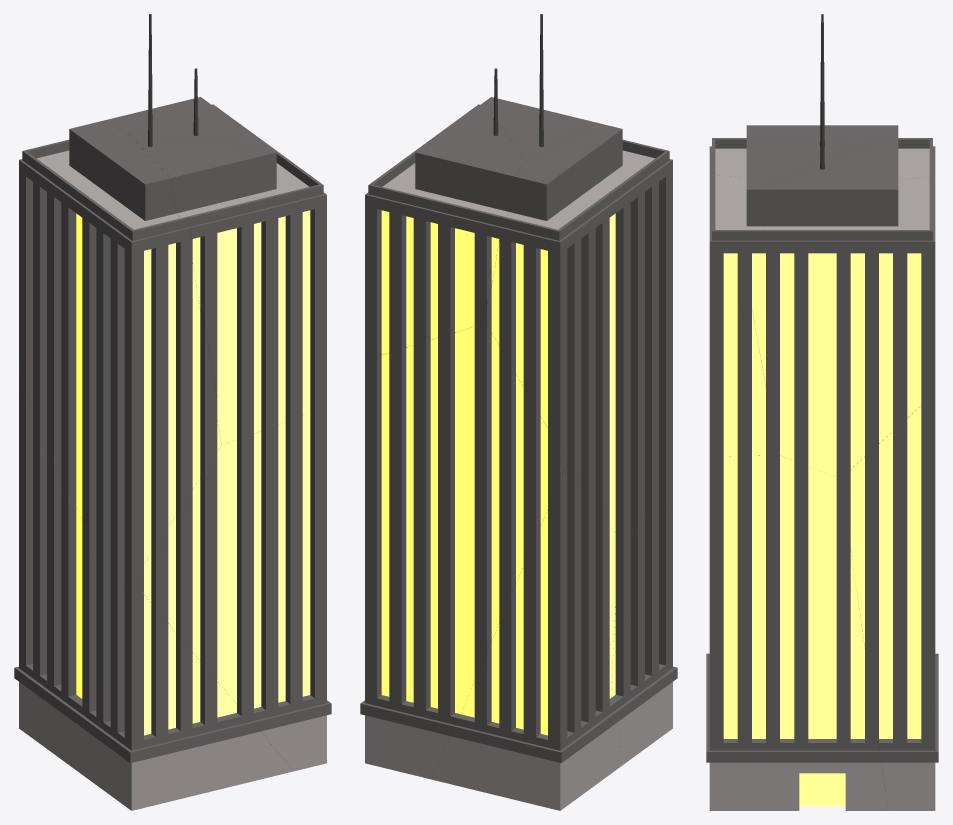
Rendered from fractured_building1.glb.
3 views of the same model, side by side, from view 1: azimuth 30°, elevation 25°; view 2: azimuth 150°, elevation 25°; view 3: azimuth 270°, elevation 25° (orthographic).
Visible parts, largest first — view 1: Edificio_cell.001, Edificio_cell.003, Edificio_cell.004, Edificio_cell.006, Edificio_cell.002, Edificio_cell.007; view 2: Edificio_cell.005, Edificio_cell.001, Edificio_cell.002, Edificio_cell.007, Edificio_cell.006, Edificio_cell.004; view 3: Edificio_cell.003, Edificio_cell.007, Edificio_cell.005, Edificio_cell.004, Edificio_cell.001, Edificio_cell.008.
Boxes of the visible parts, box(x1,y1,x2,y2) form: Edificio_cell.001: box(19, 121, 221, 589); Edificio_cell.003: box(137, 412, 331, 771); Edificio_cell.004: box(128, 133, 326, 445); Edificio_cell.006: box(76, 556, 293, 810); Edificio_cell.002: box(14, 393, 87, 770); Edificio_cell.007: box(101, 97, 313, 186); Edificio_cell.005: box(360, 317, 567, 779); Edificio_cell.001: box(485, 122, 672, 542); Edificio_cell.002: box(431, 466, 628, 810); Edificio_cell.007: box(365, 101, 525, 354); Edificio_cell.006: box(611, 507, 677, 768); Edificio_cell.004: box(469, 97, 596, 160); Edificio_cell.003: box(706, 455, 887, 810); Edificio_cell.007: box(730, 141, 935, 485); Edificio_cell.005: box(842, 401, 938, 810); Edificio_cell.004: box(709, 138, 860, 459); Edificio_cell.001: box(709, 125, 935, 179); Edificio_cell.008: box(820, 14, 824, 145).
Bounding box in the file's own units: 4.98 × 17.42 × 4.98.
